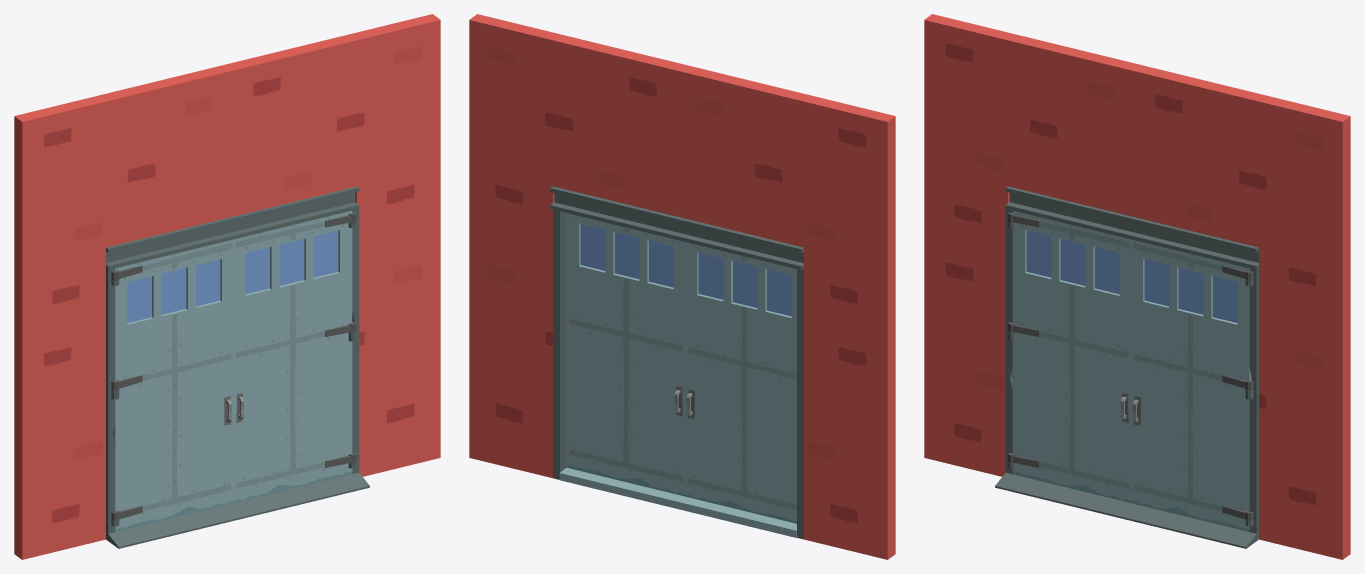
The model's file is Wh_Door_Big.fbx.
The picture shows the model from 3 angles, left to right: view 1: azimuth 30°, elevation 25°; view 2: azimuth 150°, elevation 25°; view 3: azimuth 330°, elevation 25°; orthographic projection.
Visible parts, largest first — view 1: Cube.104, Cube.112, Cube.108; view 2: Cube.104, Cube.112, Cube.108; view 3: Cube.104, Cube.108, Cube.112.
Part boxes in pixels (x1=…): Cube.104: x1=14, y1=14, x2=440, y2=559; Cube.112: x1=233, y1=210, x2=356, y2=502; Cube.108: x1=111, y1=239, x2=233, y2=531; Cube.104: x1=469, y1=14, x2=895, y2=559; Cube.112: x1=566, y1=213, x2=685, y2=496; Cube.108: x1=685, y1=242, x2=796, y2=523; Cube.104: x1=924, y1=14, x2=1350, y2=559; Cube.108: x1=1008, y1=210, x2=1131, y2=502; Cube.112: x1=1131, y1=239, x2=1253, y2=531.
Bounding box in the file's own units: 600 × 600 × 58.17.
